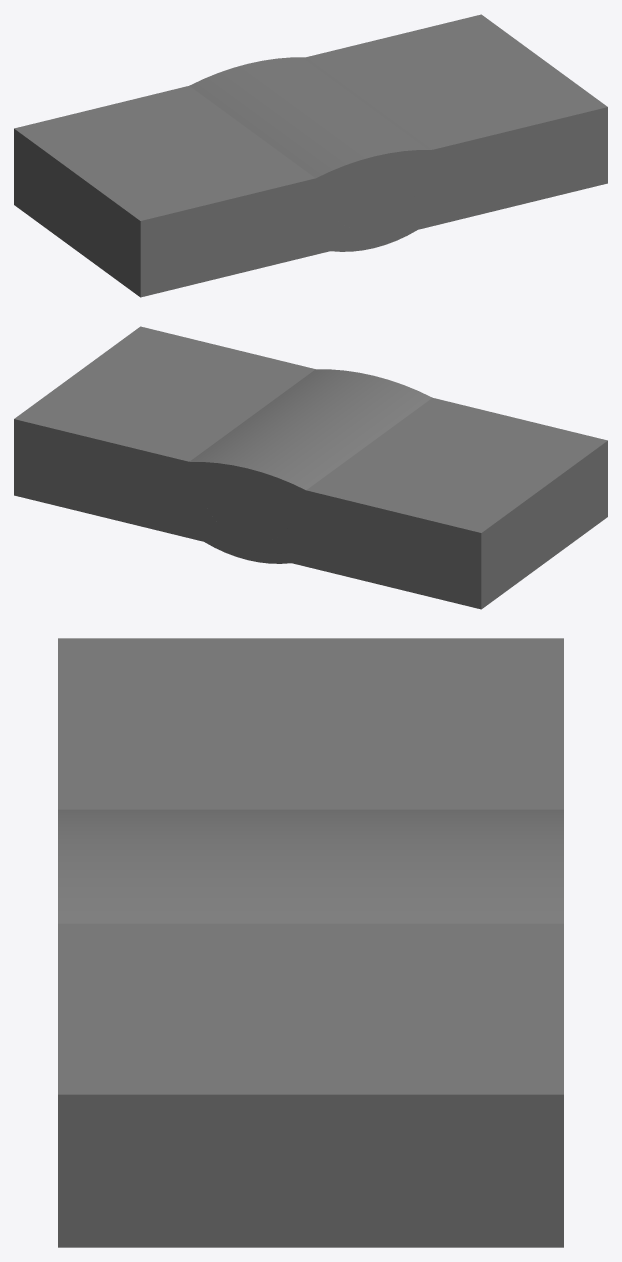
3 renders of one model, top to bottom at view 1: azimuth 30°, elevation 25°; view 2: azimuth 150°, elevation 25°; view 3: azimuth 270°, elevation 25°, orthographic. The views are drawn at different scales.
Parts seen in each view (by area): view 1: mesh_id4, mesh_id5; view 2: mesh_id4, mesh_id5; view 3: mesh_id4, mesh_id5.
Boxes of the visible parts, x1,y1,x2,y2 form: mesh_id4: [14, 14, 607, 297]; mesh_id5: [189, 57, 432, 251]; mesh_id4: [14, 326, 607, 609]; mesh_id5: [189, 369, 432, 563]; mesh_id4: [58, 638, 563, 1247]; mesh_id5: [58, 809, 563, 923].
Bounding box in the file's own units: 0.512 × 0.096 × 0.24.
2 materials, 2 textured.
